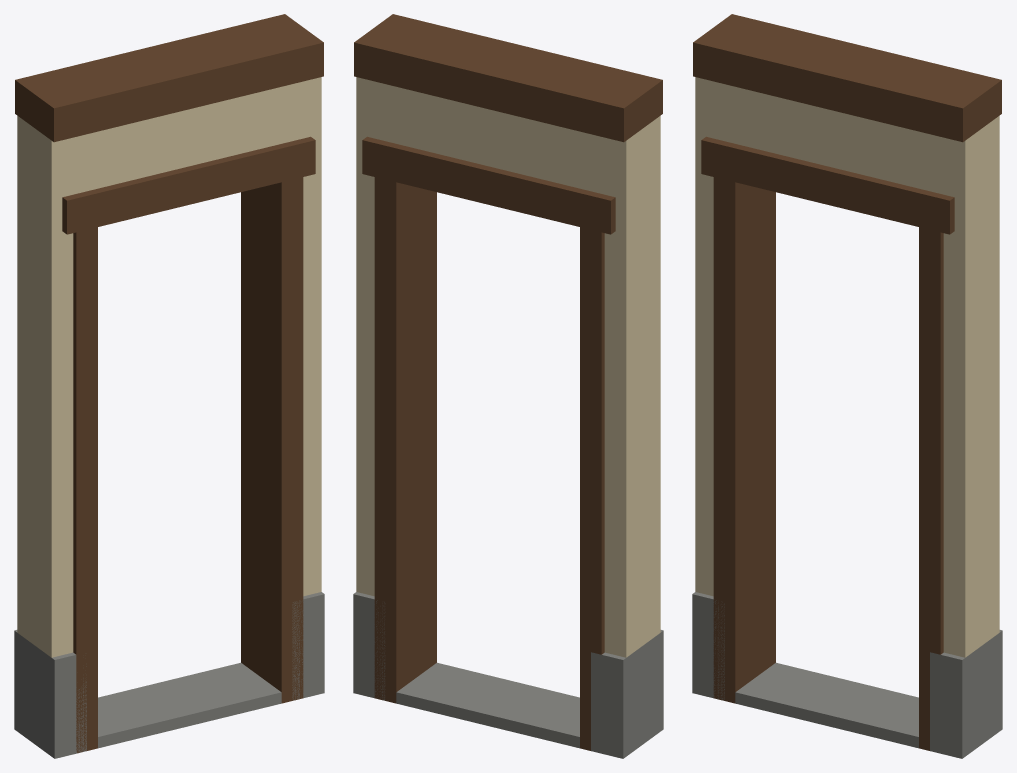
Rendered from WallDoorway.fbx.
3 views of the same model, side by side, from view 1: azimuth 30°, elevation 25°; view 2: azimuth 150°, elevation 25°; view 3: azimuth 330°, elevation 25° (orthographic).
Visible parts, largest first — view 1: Kit_WallDoorway; view 2: Kit_WallDoorway; view 3: Kit_WallDoorway.
Part boxes in pixels (<box>): Kit_WallDoorway: <box>14,14,324,758</box>; Kit_WallDoorway: <box>353,14,663,758</box>; Kit_WallDoorway: <box>692,14,1002,758</box>.
Size of the model in its own units: 1 by 2.3 by 0.28.
